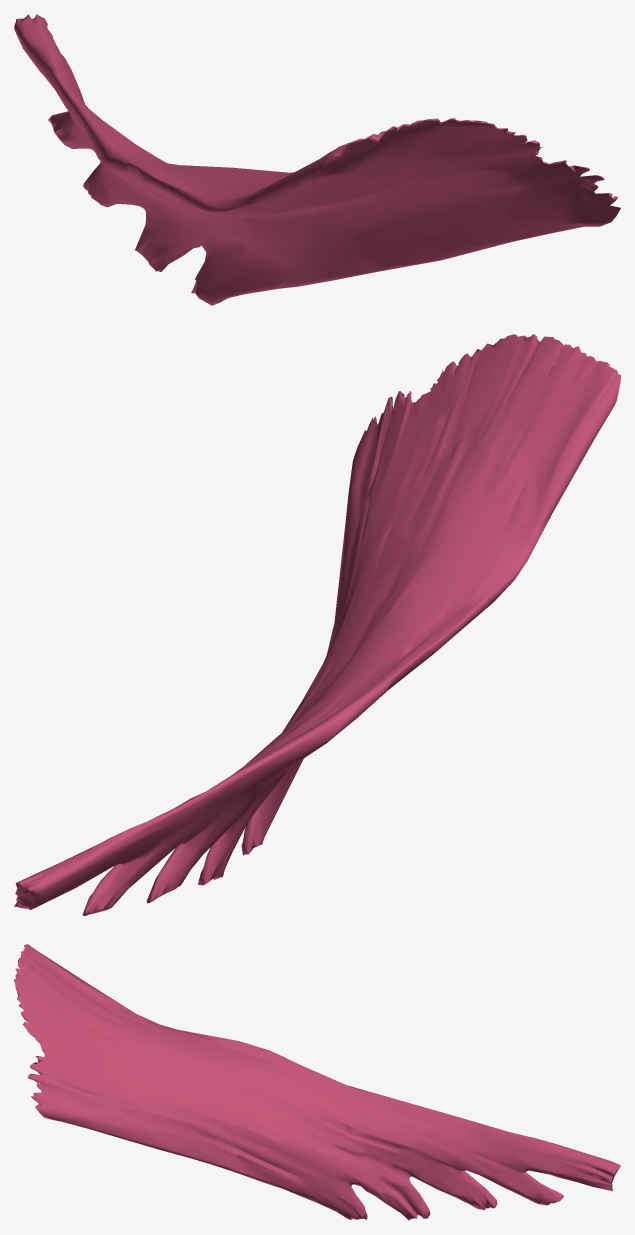
3 views of the same model, one above another, from view 1: azimuth 30°, elevation 25°; view 2: azimuth 150°, elevation 25°; view 3: azimuth 270°, elevation 25° (orthographic). The views are drawn at different scales.
Parts seen in each view (by area): view 1: 左侧头棘肌; view 2: 左侧头棘肌; view 3: 左侧头棘肌.
Boxes of the visible parts, x1,y1,x2,y2 form: 左侧头棘肌: (14,14,620,305); 左侧头棘肌: (14,334,620,915); 左侧头棘肌: (14,944,620,1220).
Bounding box in the file's own units: 0.0611 × 0.0805 × 0.1828.
